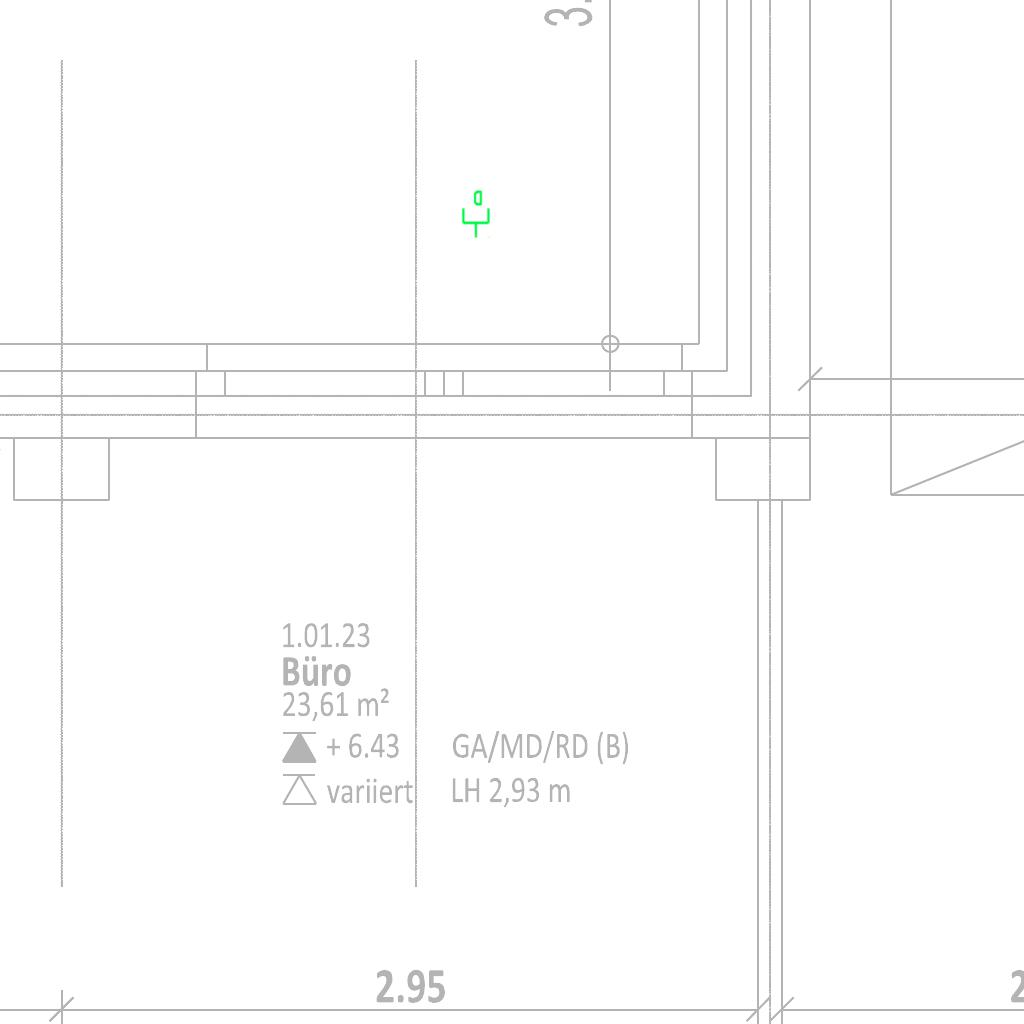Datenanschluss_einfach: (458, 189, 492, 239)
